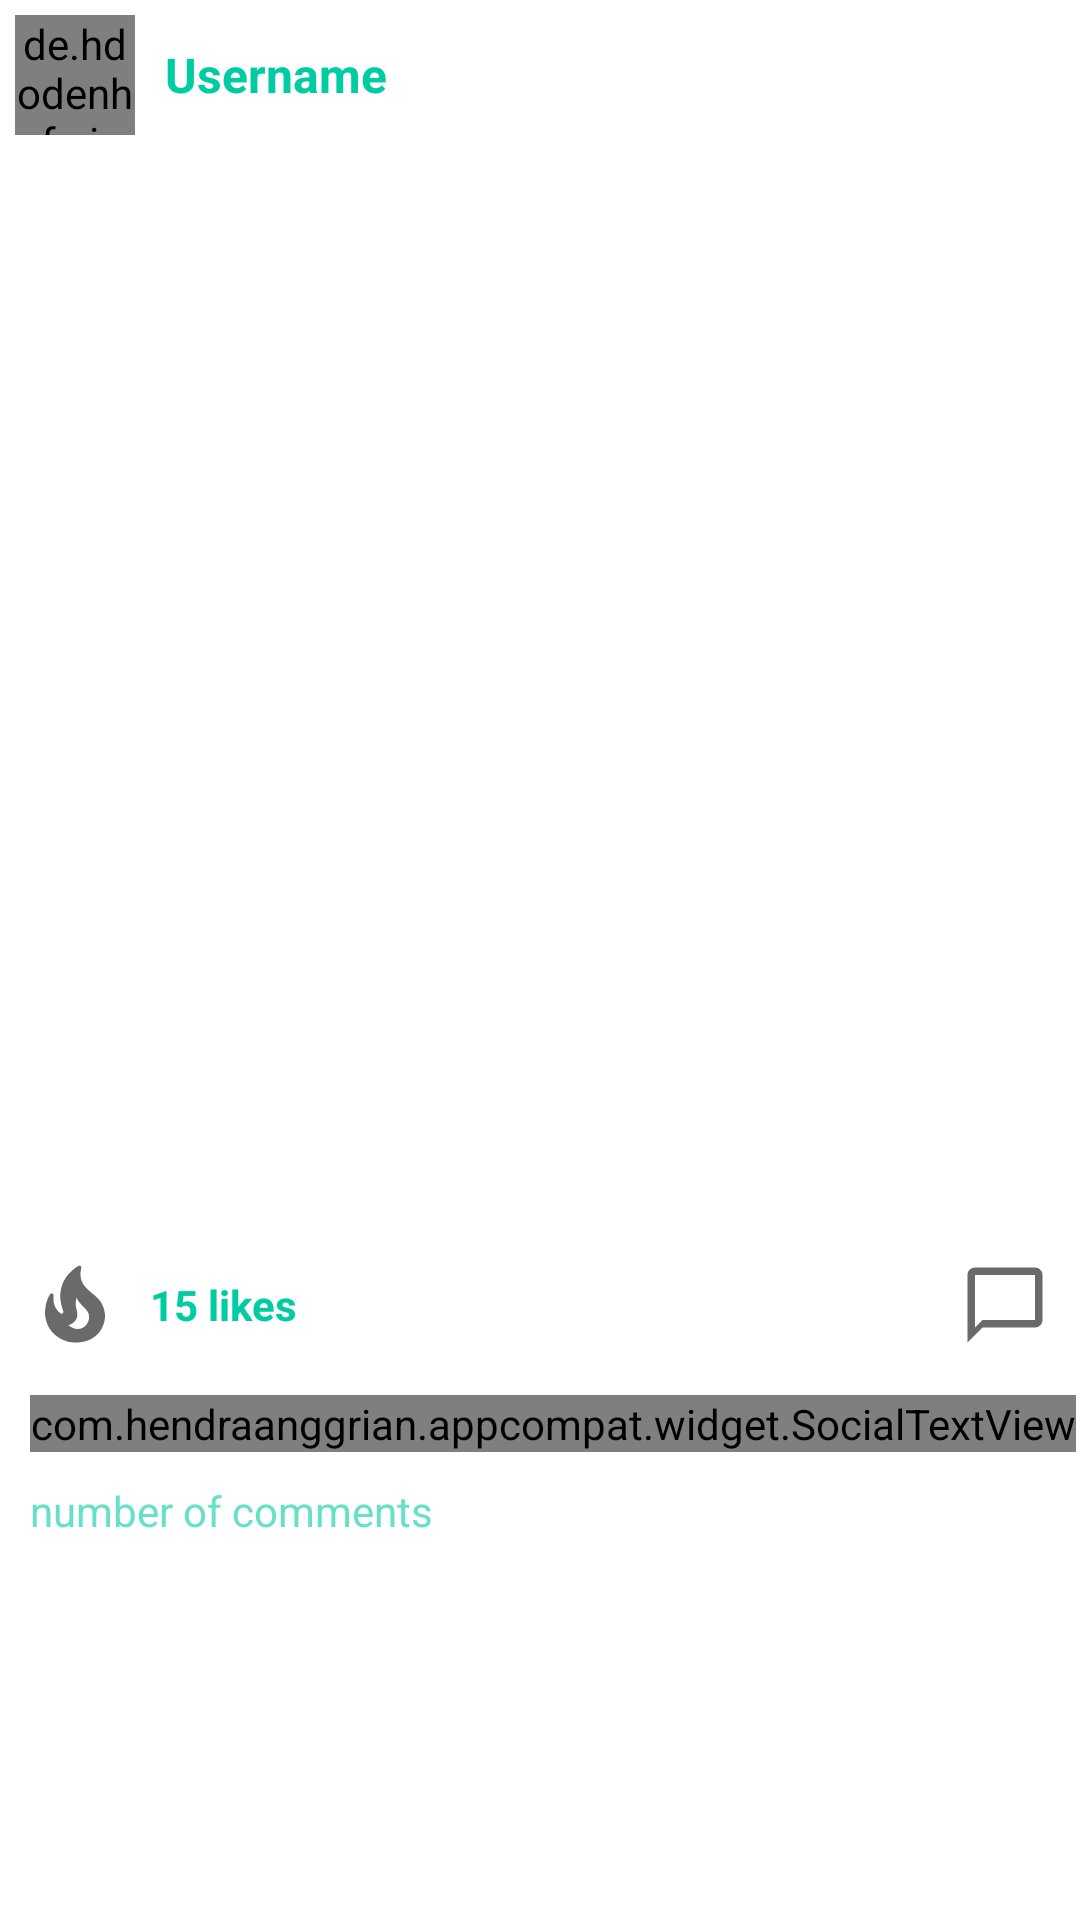

Icon click points for this 1080 x 1920 phone screenshot, format [x,y]:
comment: [1005,1304]
